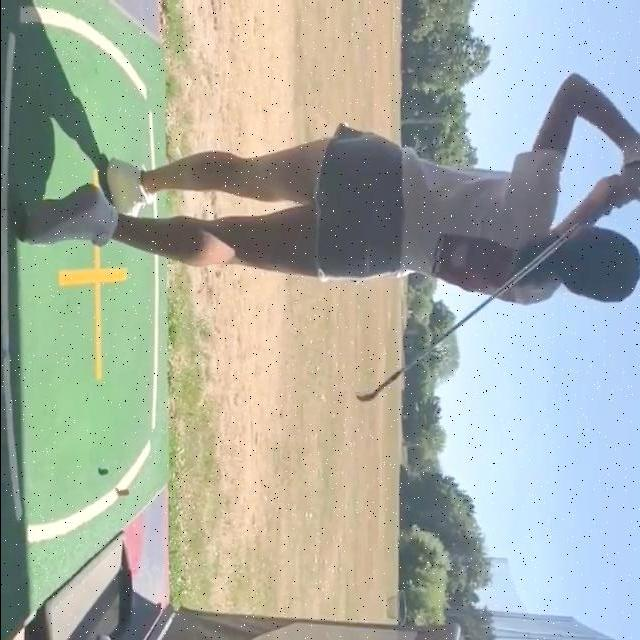ClubHandle: (356, 206, 604, 403)
ClubHead: (355, 392, 374, 403)
